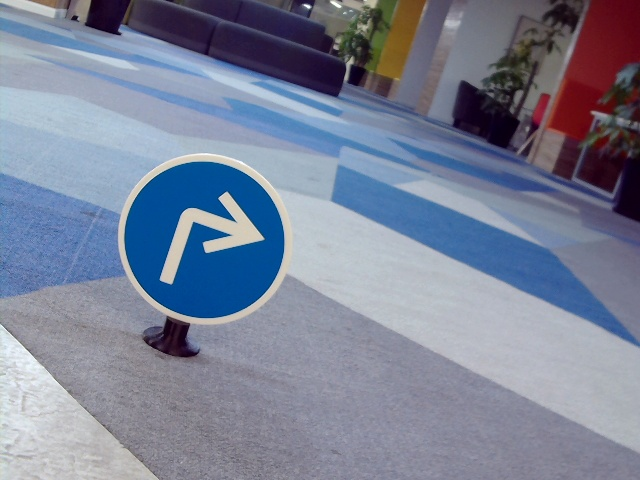turn_right: (155, 185, 261, 290)
